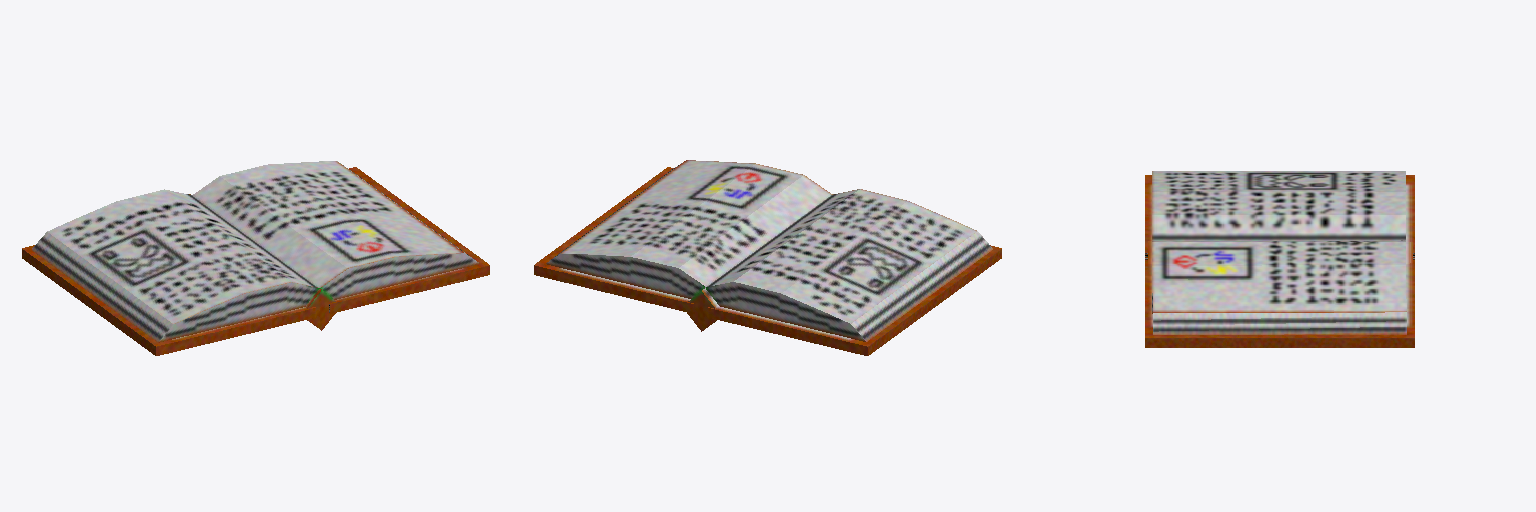
The picture shows the model from 3 angles: view 1: azimuth 30°, elevation 25°; view 2: azimuth 150°, elevation 25°; view 3: azimuth 270°, elevation 25°; orthographic projection.
Parts seen in each view (by area): view 1: Grimorio; view 2: Grimorio; view 3: Grimorio.
Boxes of the visible parts, <box> form: Grimorio: <box>22,161,489,355</box>; Grimorio: <box>534,160,1001,355</box>; Grimorio: <box>1145,171,1414,347</box>.
Bounding box in the file's own units: 86.64 × 13.57 × 60.4.
Materials: 1 (1 with a texture image).